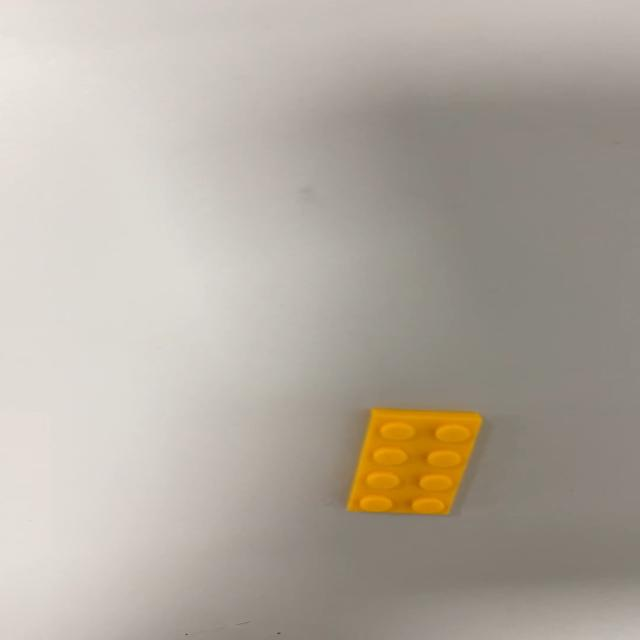C4x2x0: (344, 406, 484, 516)
